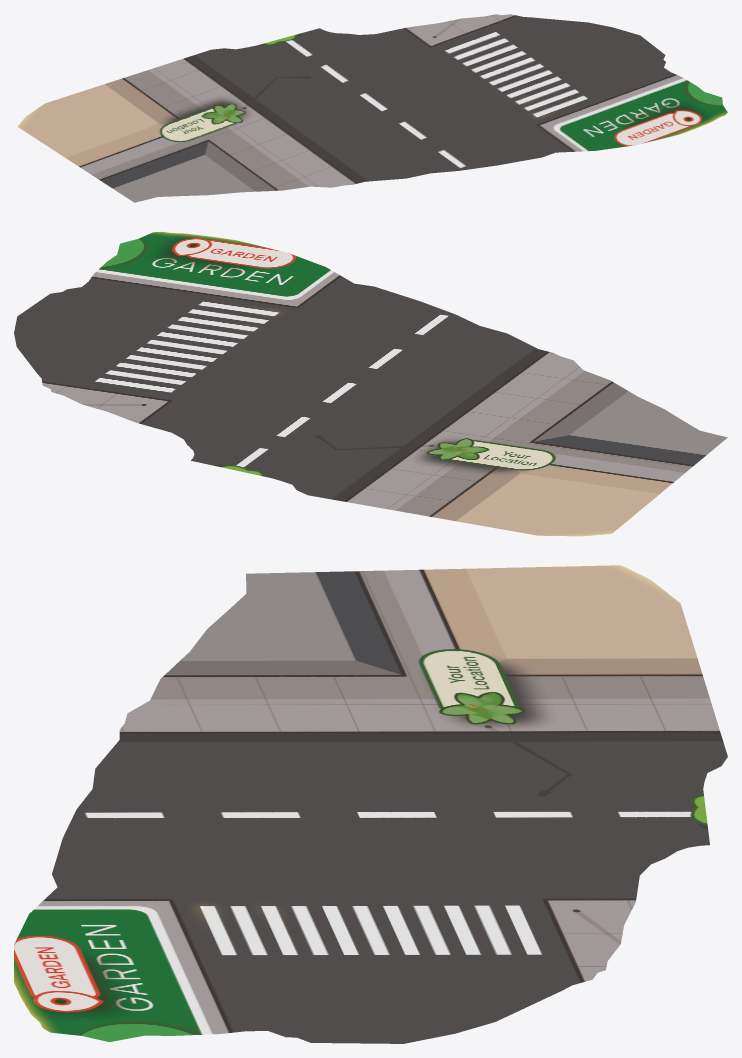
File: map3.fbx
3 views of the same model, one above another, from view 1: azimuth 30°, elevation 25°; view 2: azimuth 150°, elevation 25°; view 3: azimuth 270°, elevation 25° (orthographic). The views are drawn at different scales.
Parts seen in each view (by area): view 1: Plane; view 2: Plane; view 3: Plane.
Boxes of the visible parts, left/top/right/bottom form: Plane: left=17, top=14, right=727, bottom=202; Plane: left=14, top=231, right=727, bottom=536; Plane: left=14, top=565, right=727, bottom=1043.
Size of the model in its own units: 316 by 3.24e-05 by 199.
1 material, 1 textured.
